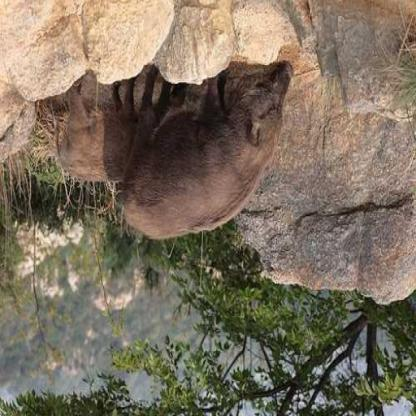boar: (100, 34, 323, 285)
